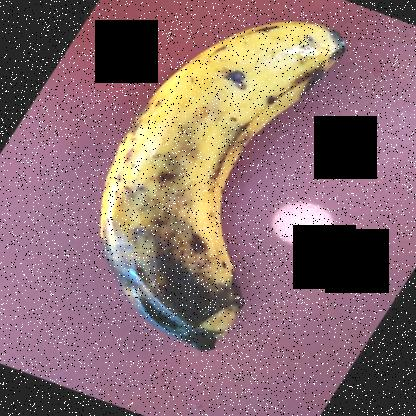rotten: (70, 14, 368, 354)
